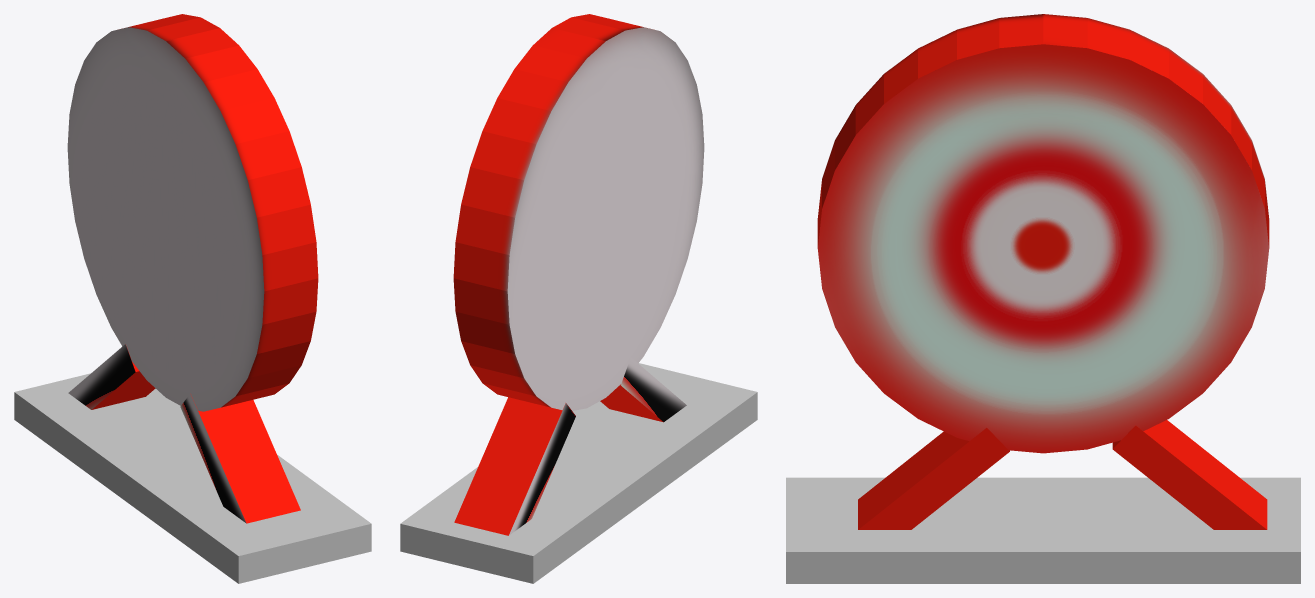
The model's file is Targer.obj.
The picture shows the model from 3 angles, left to right: view 1: azimuth 30°, elevation 25°; view 2: azimuth 150°, elevation 25°; view 3: azimuth 270°, elevation 25°; orthographic projection. The views are drawn at different scales.
Parts seen in each view (by area): view 1: Cylinder, Base, Cube.001, Cube; view 2: Cylinder, Base, Cube, Cube.001; view 3: Cylinder, Base, Cube, Cube.001.
Boxes of the visible parts, <box> form: Cylinder: <box>67,14,318,411</box>; Base: <box>14,373,371,583</box>; Cube.001: <box>180,393,300,523</box>; Cube: <box>68,344,155,409</box>; Cylinder: <box>453,14,704,410</box>; Base: <box>400,363,757,583</box>; Cube: <box>454,397,575,535</box>; Cube.001: <box>600,357,686,422</box>; Cylinder: <box>817,14,1269,453</box>; Base: <box>786,477,1300,583</box>; Cube: <box>1112,420,1267,529</box>; Cube.001: <box>858,428,1009,529</box>.
Bounding box in the file's own units: 0.9703 × 3.14 × 2.83.
